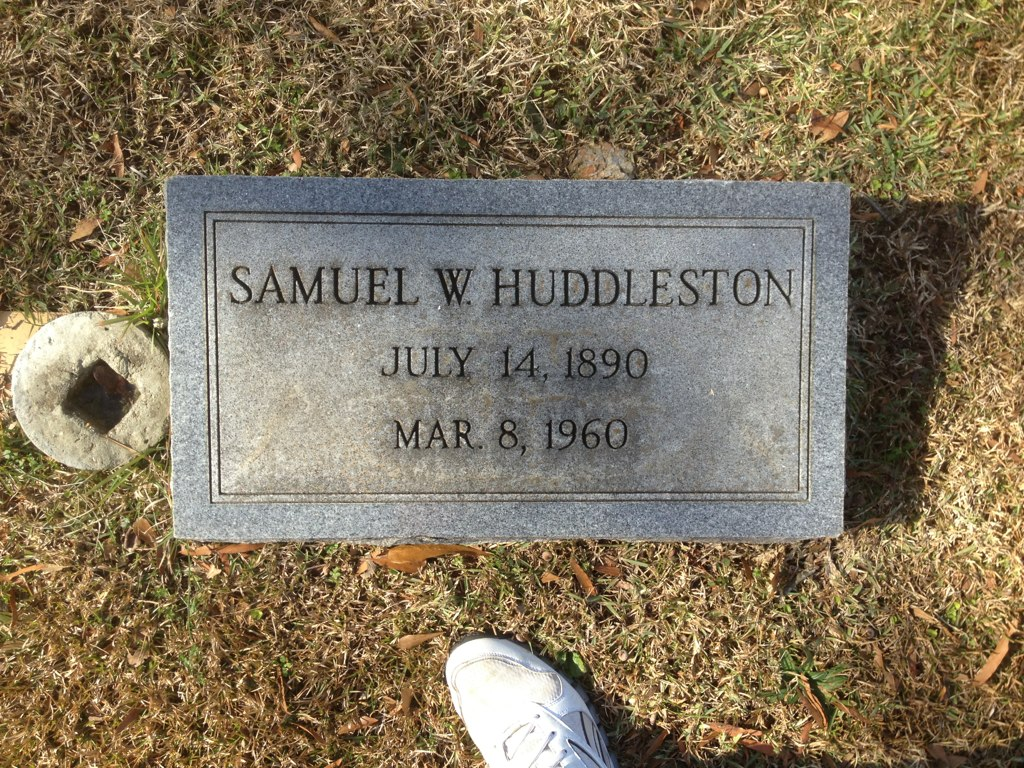flat: (163, 177, 852, 547)
